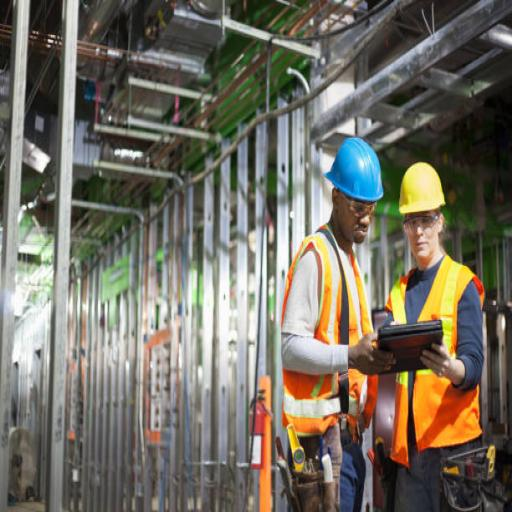No Gloves: (338, 310, 470, 392)
helmet: (316, 124, 392, 215), (393, 155, 454, 221)
jacket: (369, 244, 492, 470), (277, 206, 387, 458)
safety glasses: (398, 194, 454, 245), (326, 178, 385, 225)
